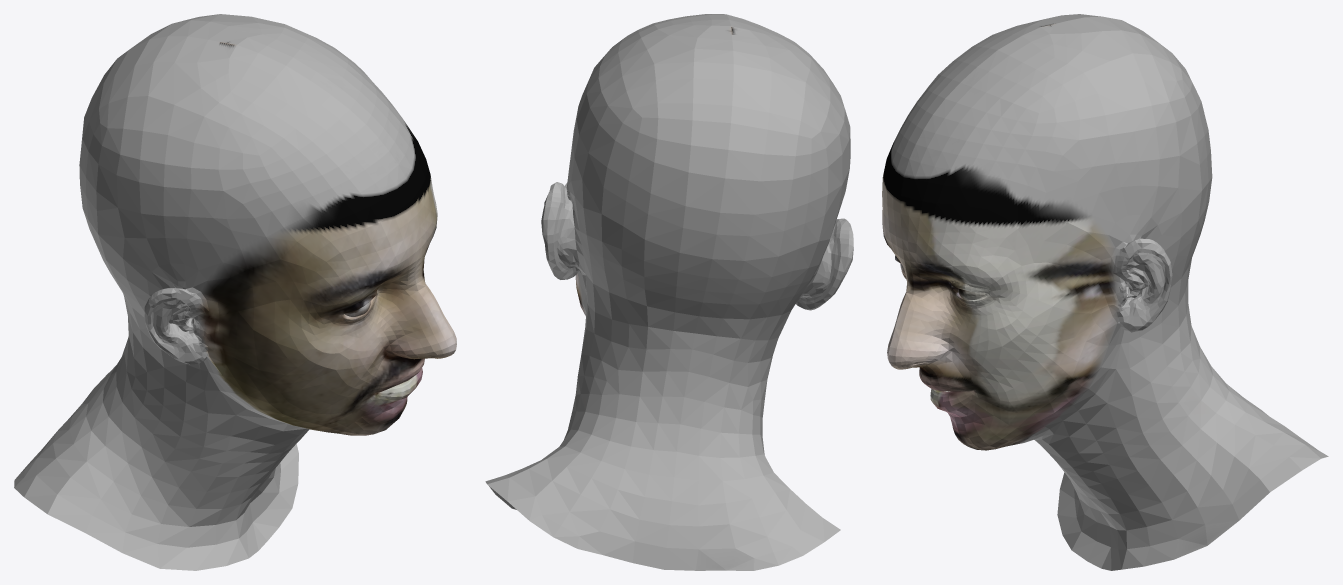
The model's file is ezgif-frame-055.obj.
3 views of the same model, side by side, from view 1: azimuth 30°, elevation 25°; view 2: azimuth 150°, elevation 25°; view 3: azimuth 270°, elevation 25° (orthographic). The views are drawn at different scales.
Size of the model in its own units: 0.2022 by 0.3232 by 0.2551.
1 material, 1 textured.
